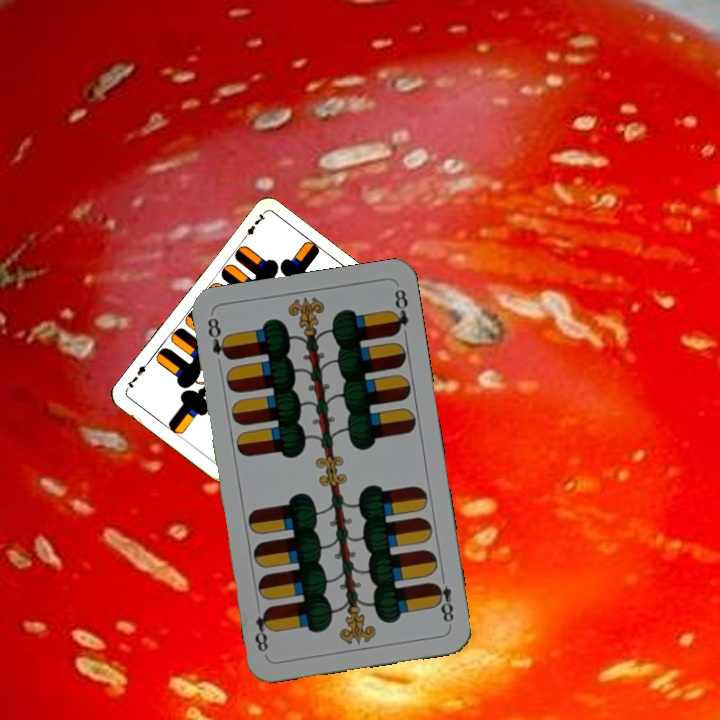E7: (238, 209, 268, 244)
E8: (429, 569, 457, 625), (203, 313, 233, 362)
